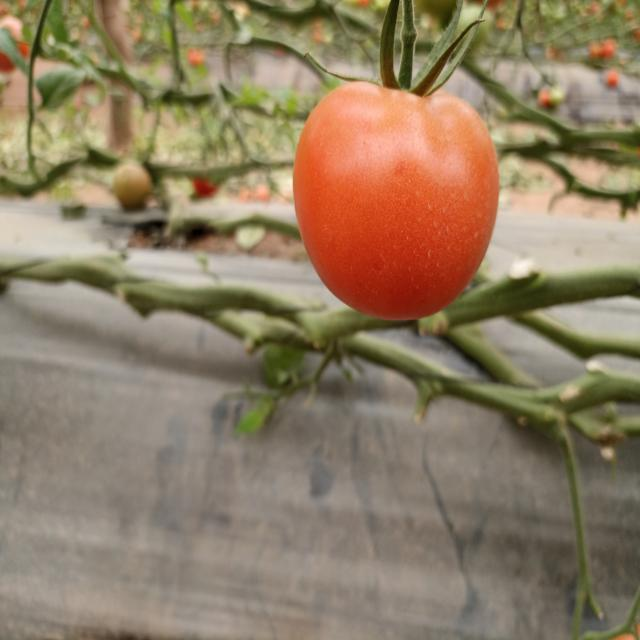Ripe Tomato: (292, 75, 500, 329), (0, 12, 33, 76), (191, 153, 224, 201), (188, 44, 208, 70), (600, 37, 618, 62), (604, 71, 626, 88), (538, 94, 553, 112)
Unripe Tomato: (110, 156, 153, 214), (551, 89, 567, 108)
